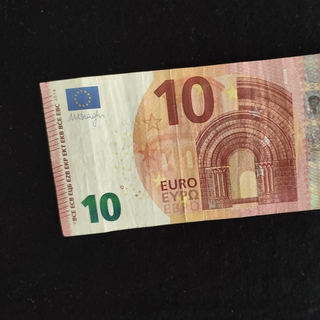10EUROFront: (38, 50, 320, 237)
